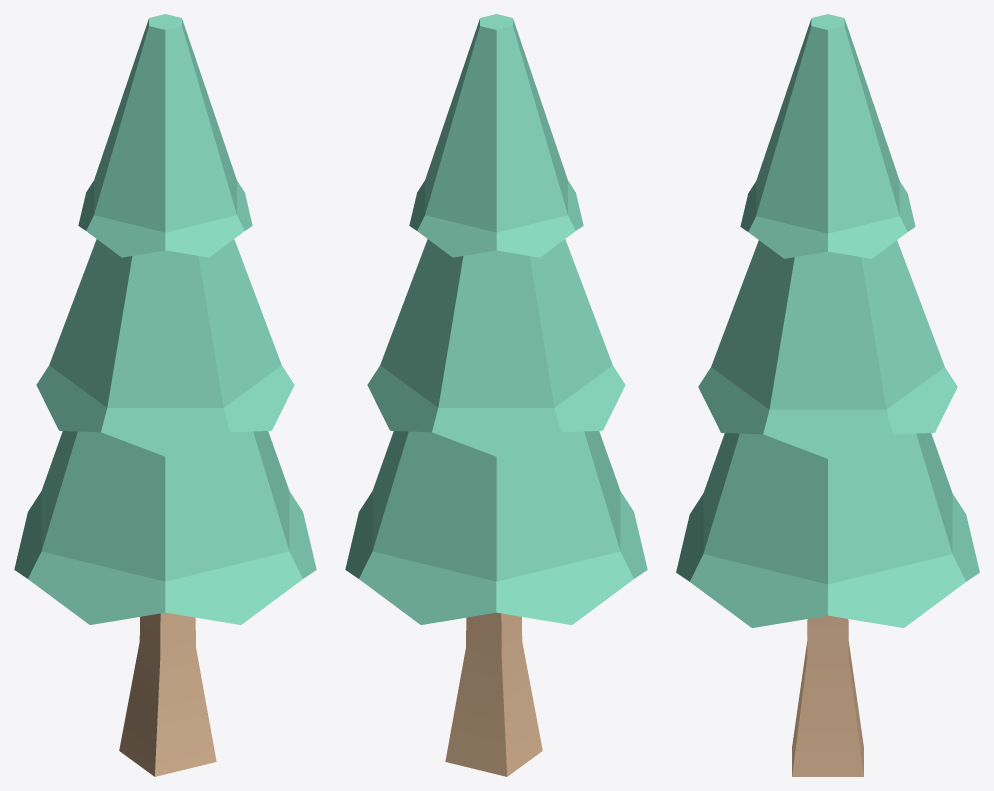
File: Tree 2.fbx
The picture shows the model from 3 angles, left to right: view 1: azimuth 30°, elevation 25°; view 2: azimuth 150°, elevation 25°; view 3: azimuth 270°, elevation 25°; orthographic projection.
Parts seen in each view (by area): view 1: tree; view 2: tree; view 3: tree.
Part boxes in pixels (x1=…): tree: x1=14, y1=14, x2=316, y2=776; tree: x1=345, y1=14, x2=647, y2=776; tree: x1=676, y1=14, x2=979, y2=776.
Size of the model in its own units: 1.11 by 2.82 by 1.05.
